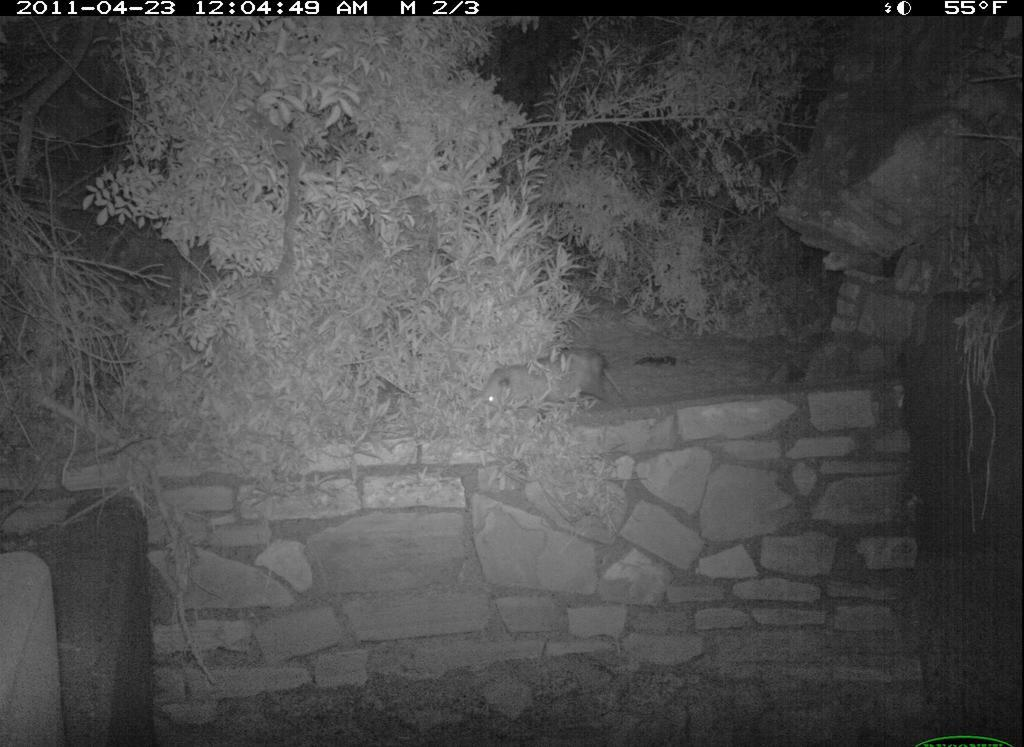opossum: (468, 341, 621, 431)
